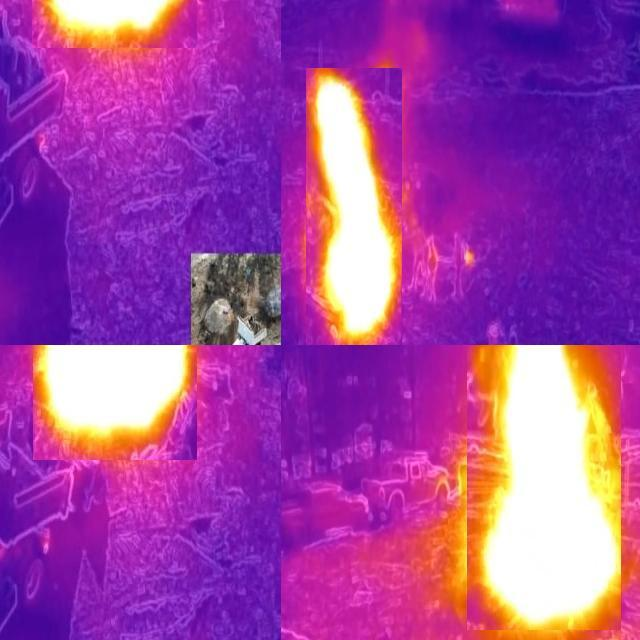fire: (468, 346, 622, 631), (307, 69, 403, 346), (34, 346, 198, 461), (33, 1, 198, 49)
